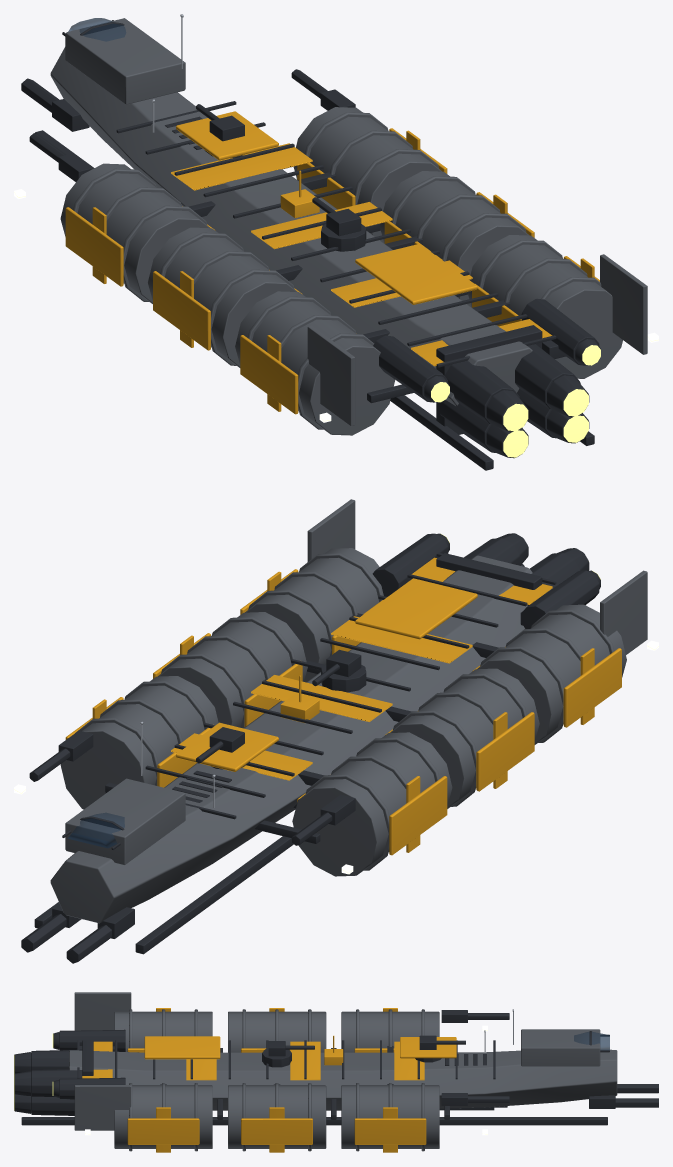
The model's file is drayman.glb.
3 renders of one model, top to bottom at view 1: azimuth 30°, elevation 25°; view 2: azimuth 150°, elevation 25°; view 3: azimuth 270°, elevation 25°, orthographic. The views are drawn at different scales.
Parts seen in each view (by area): view 1: cargo_pod_L, cargo_pod_R, hull, engine, T1_pod_armor_L, bridge, spine_stripe, T1_spine_armor, vents, tail_vane_L, tail_vane_R, frame (+14 smaller); view 2: hull, cargo_pod_L, cargo_pod_R, T1_pod_armor_L, spine_stripe, bridge, T1_spine_armor, vents, engine, frame, tail_vane_L, T1_pod_armor_R (+13 smaller); view 3: hull, cargo_pod_R, cargo_pod_L, T1_pod_armor_R, engine, bridge, spine_stripe, T1_spine_armor, frame, tail_vane_R, tail_vane_L, vents (+12 smaller).
Boxes of the visible parts, x1,y1,x2,y2 form: cargo_pod_L: [60, 163, 395, 435]; cargo_pod_R: [293, 107, 622, 378]; hull: [50, 47, 532, 405]; engine: [436, 325, 589, 458]; T1_pod_armor_L: [65, 206, 302, 414]; bridge: [65, 18, 185, 104]; spine_stripe: [171, 143, 552, 366]; T1_spine_armor: [176, 111, 477, 304]; vents: [116, 101, 556, 367]; tail_vane_L: [307, 325, 355, 426]; tail_vane_R: [600, 254, 647, 354]; frame: [35, 130, 594, 470]; hull: [50, 555, 532, 923]; cargo_pod_L: [292, 604, 626, 876]; cargo_pod_R: [60, 548, 383, 809]; T1_pod_armor_L: [297, 647, 621, 855]; spine_stripe: [171, 557, 552, 780]; bridge: [65, 778, 185, 865]; T1_spine_armor: [176, 578, 477, 771]; vents: [145, 552, 556, 819]; engine: [436, 533, 589, 605]; frame: [34, 660, 325, 954]; tail_vane_L: [600, 570, 647, 654]; T1_pod_armor_R: [65, 569, 382, 787]; hull: [69, 1049, 617, 1110]; cargo_pod_R: [114, 1083, 439, 1151]; cargo_pod_L: [114, 1009, 439, 1052]; T1_pod_armor_R: [127, 1118, 426, 1144]; engine: [14, 1040, 93, 1115]; bridge: [521, 1029, 600, 1066]; spine_stripe: [82, 1041, 424, 1080]; T1_spine_armor: [144, 1036, 456, 1059]; frame: [21, 1048, 607, 1125]; tail_vane_R: [74, 1085, 131, 1130]; tail_vane_L: [74, 992, 131, 1030]; vents: [77, 1040, 495, 1079].
Size of what is drawn, in the model's own units: 13.3 by 6.31 by 34.11.
